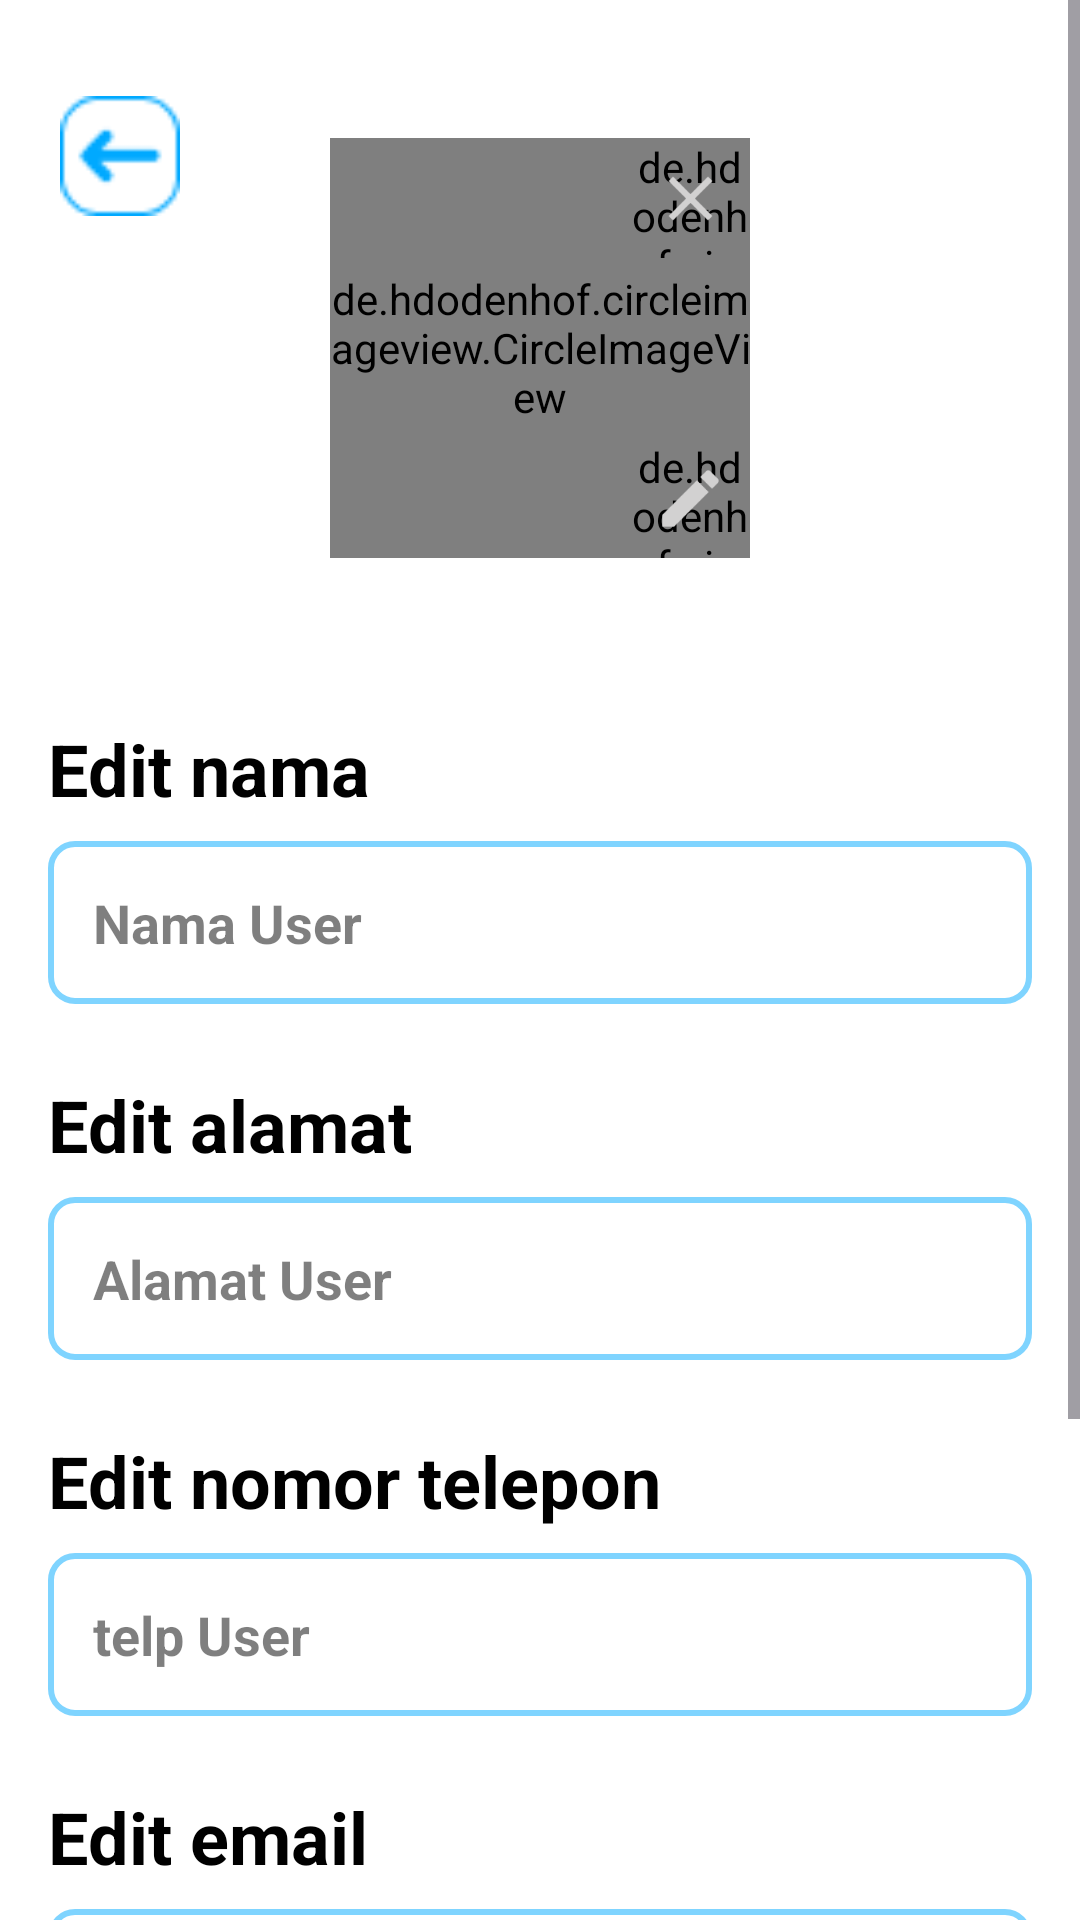

Named icons in this screenshot (1080w x 1920h) and their bounding boxes, (x1, y1, x2, y2):
back: (60, 96, 180, 216)
